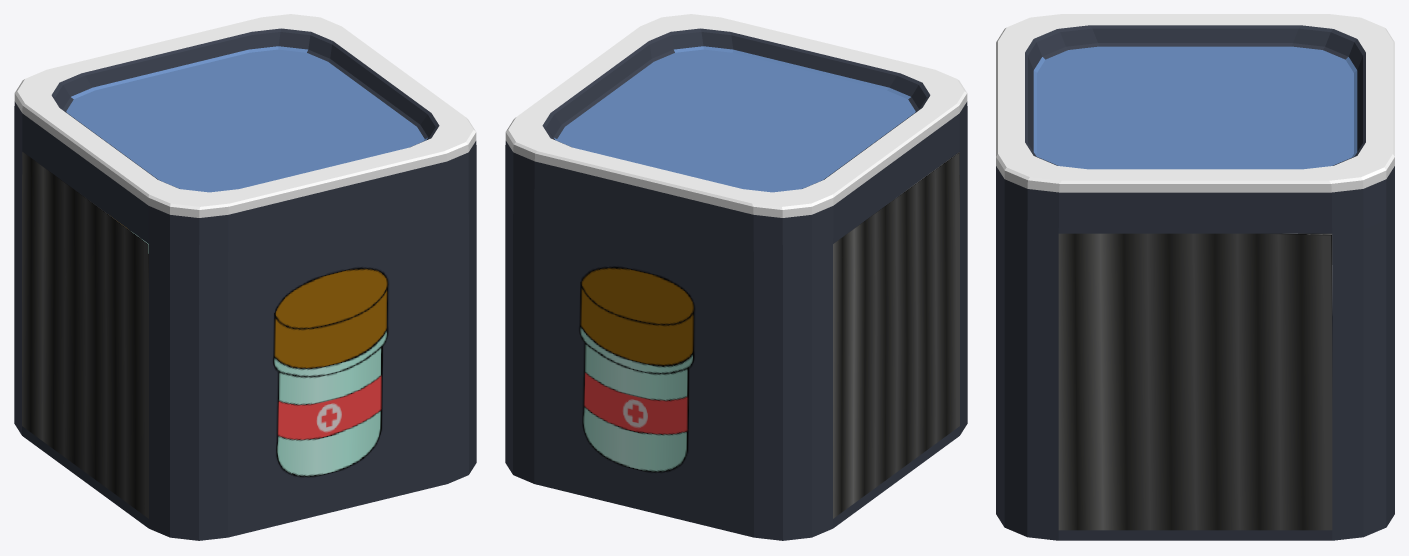
Rendered from Medicamento_Vidro.fbx.
3 views of the same model, side by side, from view 1: azimuth 30°, elevation 25°; view 2: azimuth 150°, elevation 25°; view 3: azimuth 270°, elevation 25° (orthographic). The views are drawn at different scales.
Visible parts, largest first — view 1: Medicamento_Vidro; view 2: Medicamento_Vidro; view 3: Medicamento_Vidro.
Boxes of the visible parts, box(x1,y1,x2,y2) form: Medicamento_Vidro: box(14, 14, 476, 540); Medicamento_Vidro: box(505, 14, 967, 540); Medicamento_Vidro: box(996, 14, 1394, 540).
Bounding box in the file's own units: 418 × 418 × 418.
